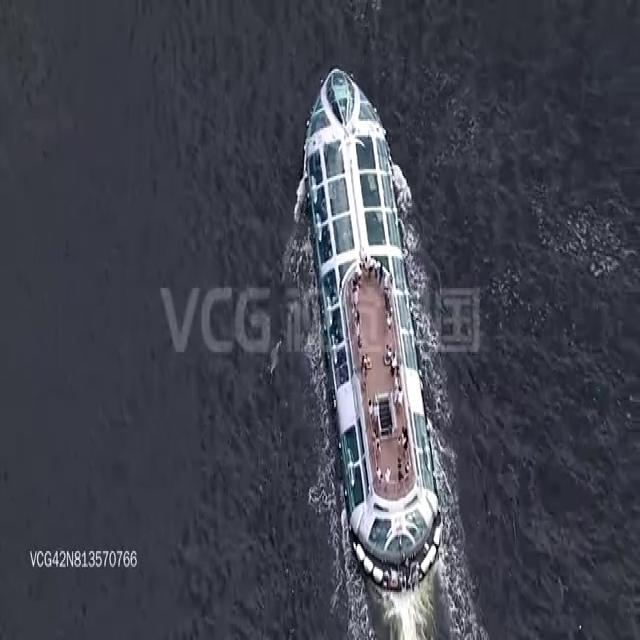passenger ship: (301, 69, 447, 588)
